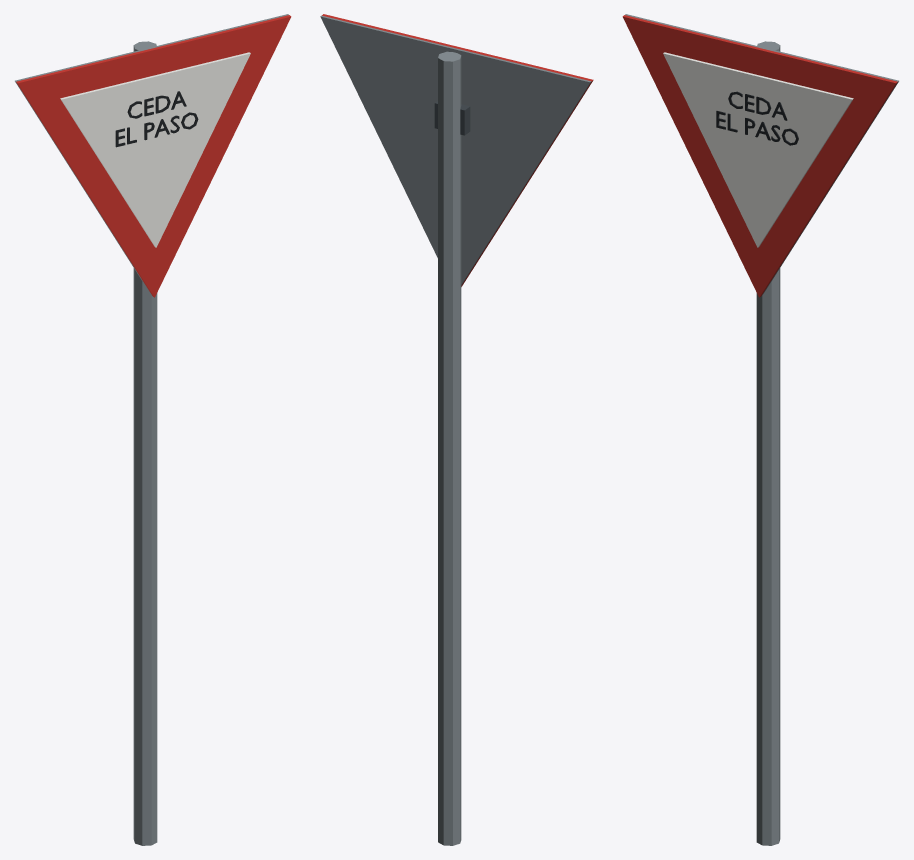
The model's file is YieldSign.fbx.
The picture shows the model from 3 angles, left to right: view 1: azimuth 30°, elevation 25°; view 2: azimuth 150°, elevation 25°; view 3: azimuth 330°, elevation 25°; orthographic projection.
Visible parts, largest first — view 1: YieldSign; view 2: YieldSign; view 3: YieldSign.
Boxes of the visible parts, <box> form: YieldSign: <box>15,14,291,845</box>; YieldSign: <box>320,14,593,845</box>; YieldSign: <box>622,14,898,845</box>.
Bounding box in the file's own units: 0.9007 × 2.51 × 0.1.
